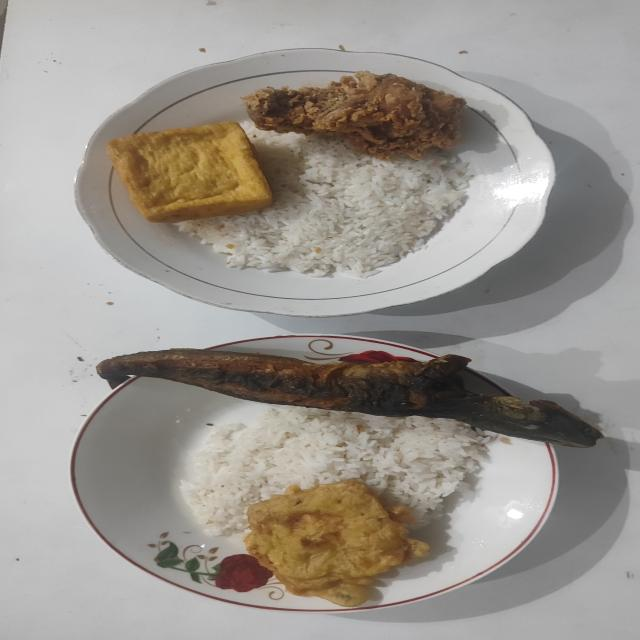nasi_putih: (176, 131, 472, 278), (180, 408, 490, 535)
tahu_goreng: (107, 122, 272, 222)
